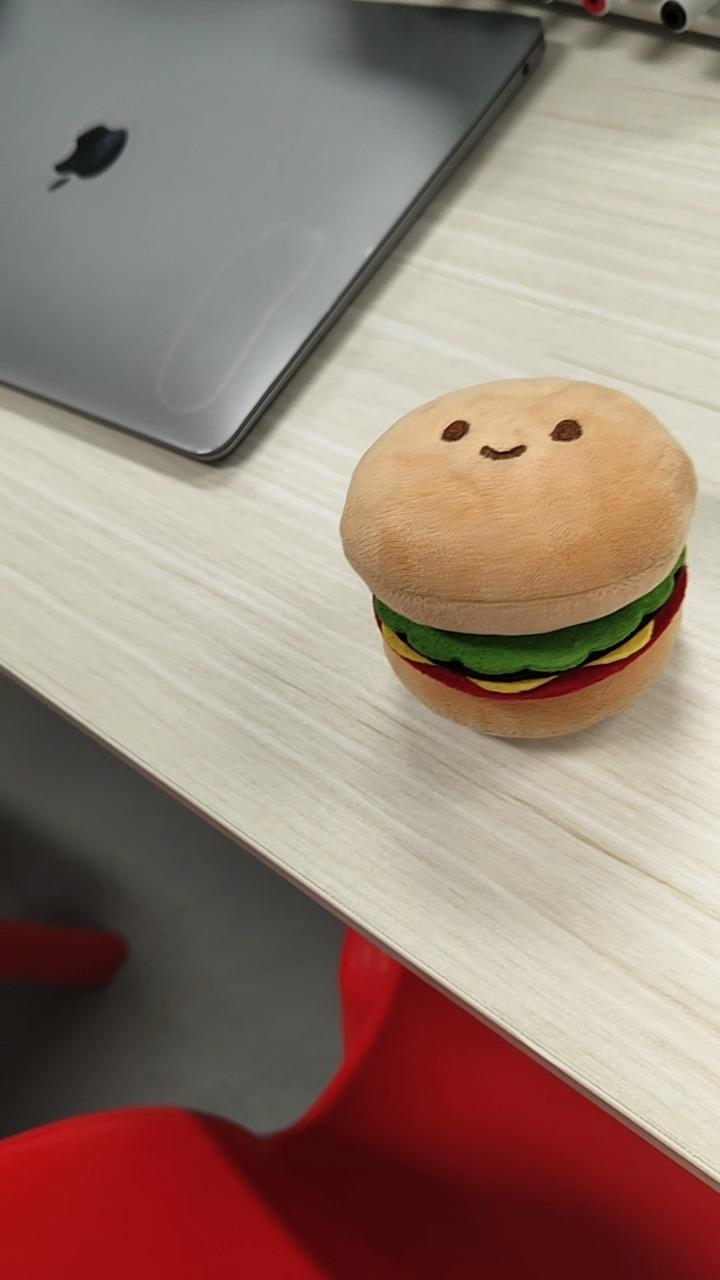hamburger: (338, 375, 698, 741)
